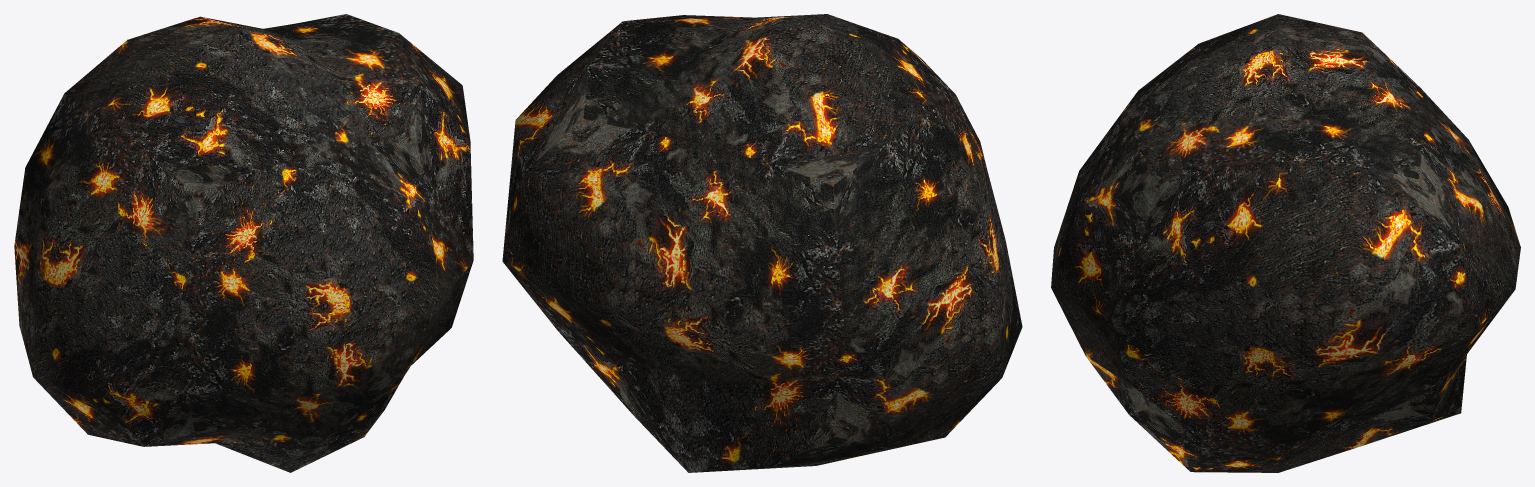
Rendered from asteroid_moltenrock_radial_s01_l0.fbx.
3 views of the same model, side by side, from view 1: azimuth 30°, elevation 25°; view 2: azimuth 150°, elevation 25°; view 3: azimuth 270°, elevation 25° (orthographic). The views are drawn at different scales.
Visible parts, largest first — view 1: mesh_node; view 2: mesh_node; view 3: mesh_node.
Part boxes in pixels (x1,y1,x2,y2): mesh_node: (14, 14, 473, 472); mesh_node: (502, 14, 1022, 472); mesh_node: (1051, 14, 1520, 472).
Bounding box in the file's own units: 5.93 × 5.4 × 5.67.
Materials: 1 (1 with a texture image).
